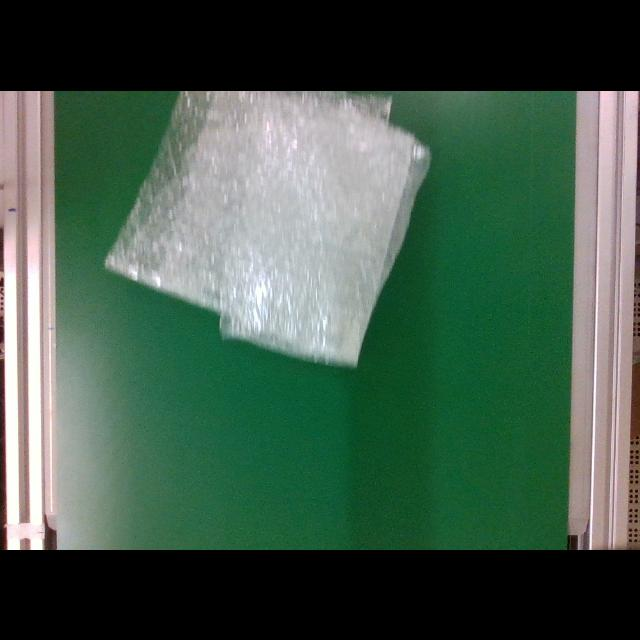scrap_plastic: (98, 93, 432, 369)
